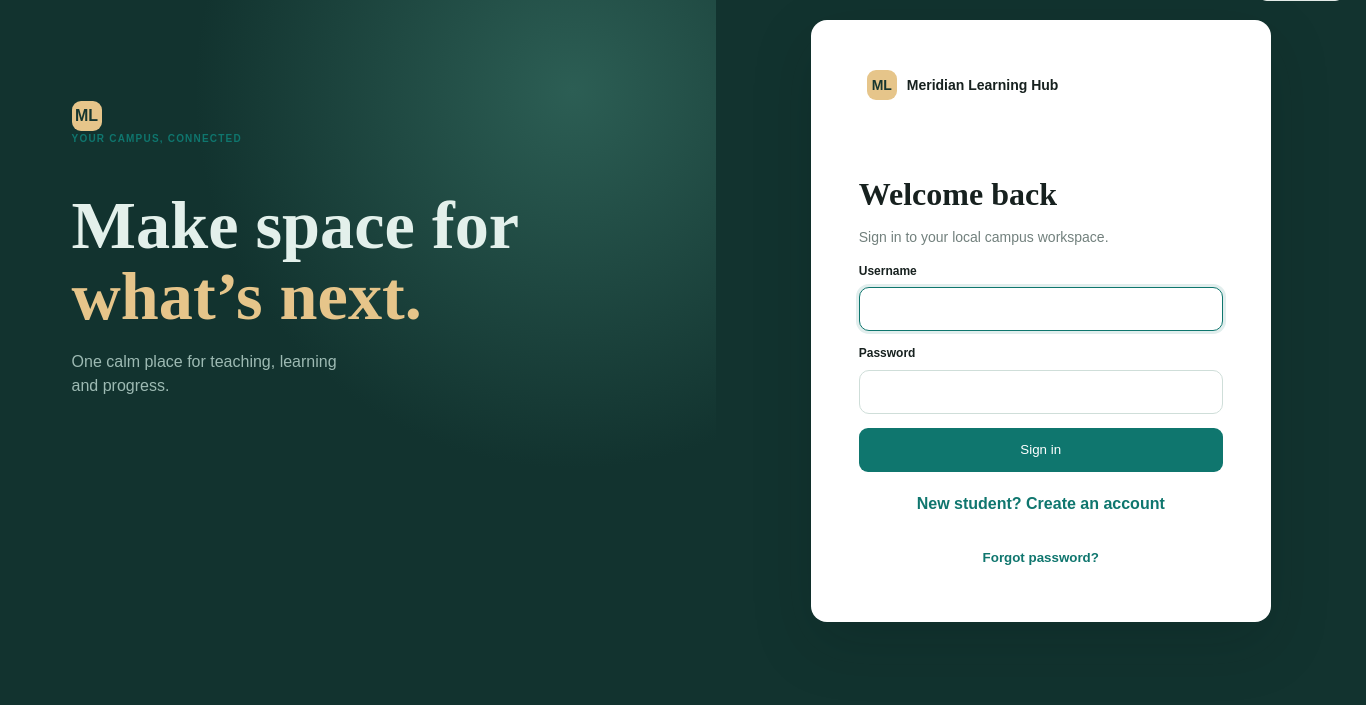
Test: shows the student their allocated lecturer and administrators
This screenshot has width=1366, height=705.
Expected: the heading "Welcome back" is shown, [859, 176, 1057, 212]
Type "student" into the field labelled "Username" at (1041, 309), box [859, 287, 1223, 331]
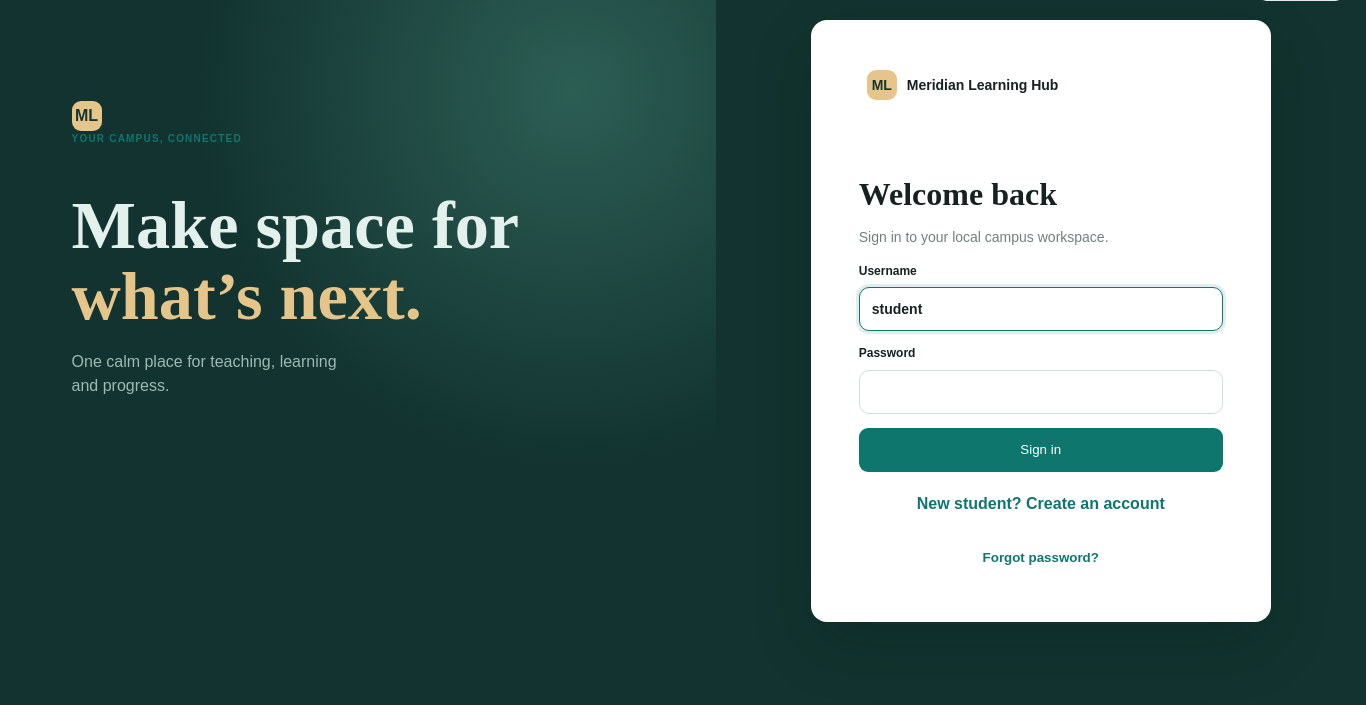
Type "Student123!" into the password field labelled "Password" at (1041, 392), box [859, 370, 1223, 414]
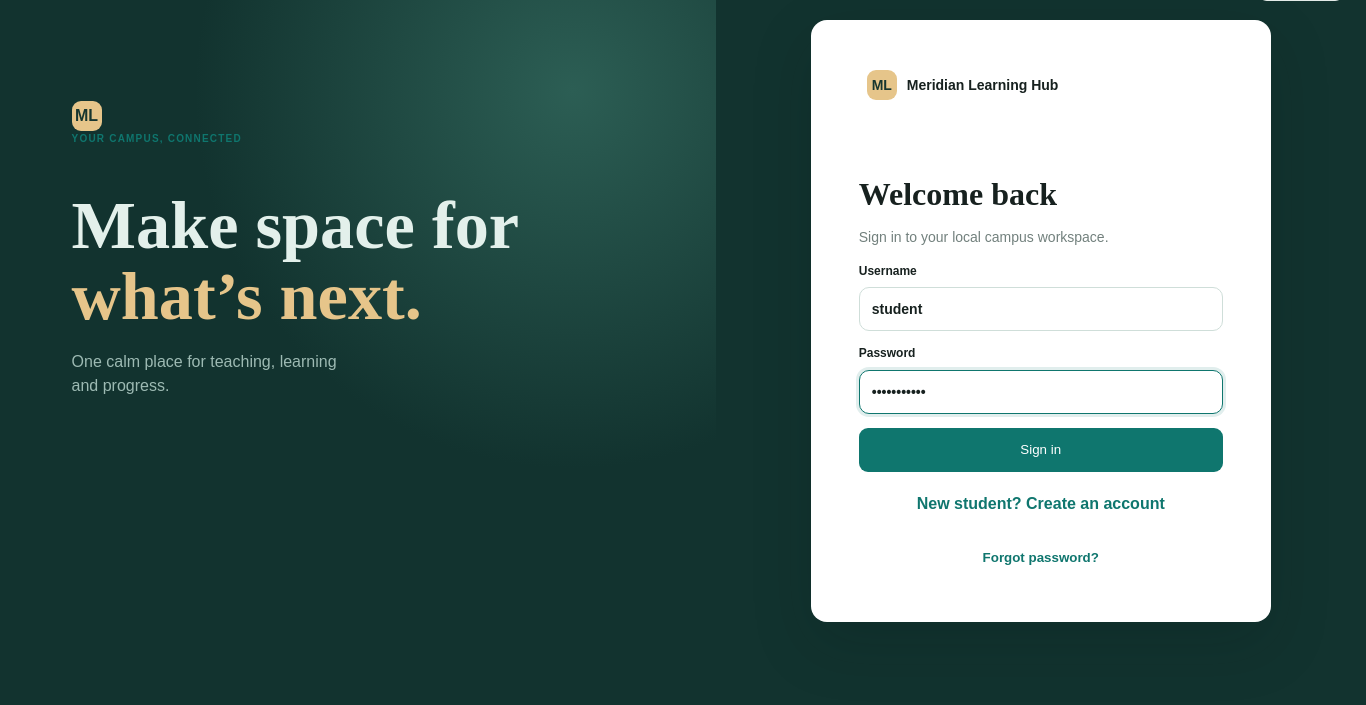
Click the button "Sign in" at (1041, 450), box [859, 428, 1223, 472]
(page scrolled)
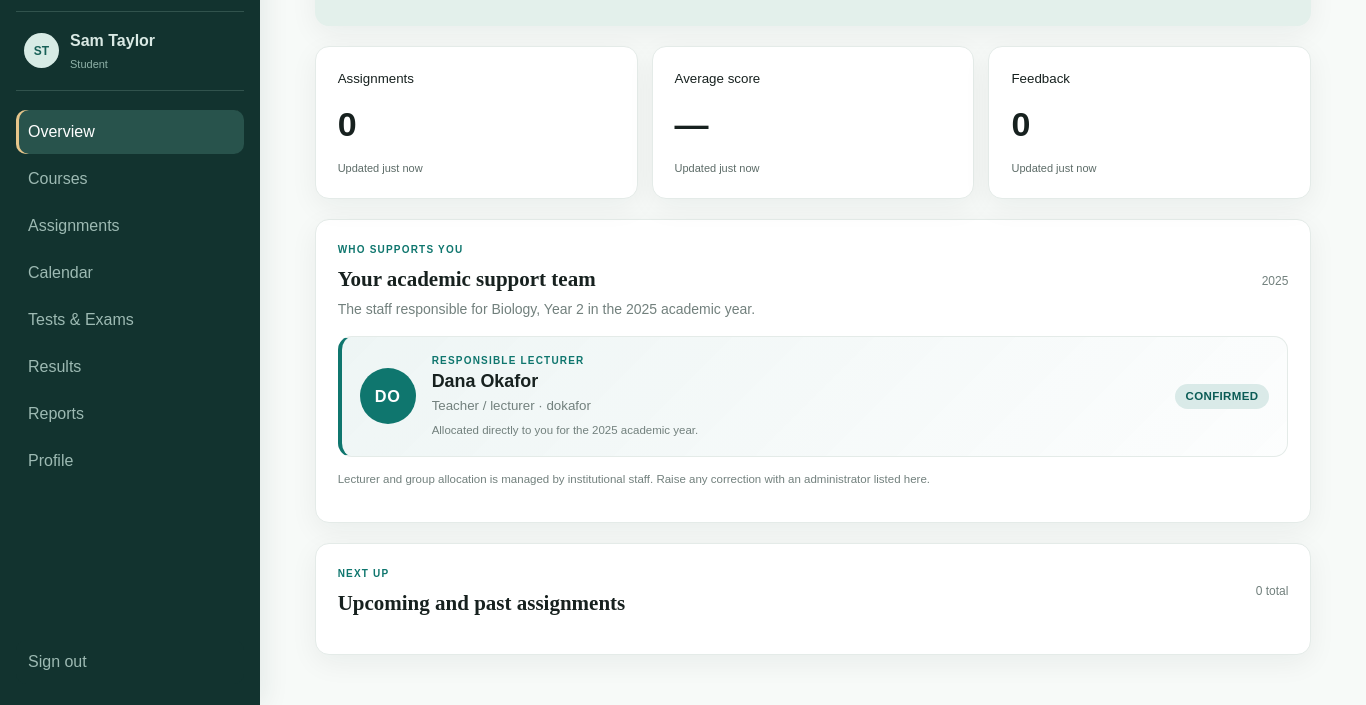
Expected: the heading "Your academic support team" is shown, [338, 268, 596, 292]
Expected: the text "Dana Okafor" is shown, [432, 371, 538, 391]
Expected: the text "Confirmed" is shown, [1174, 384, 1269, 409]
